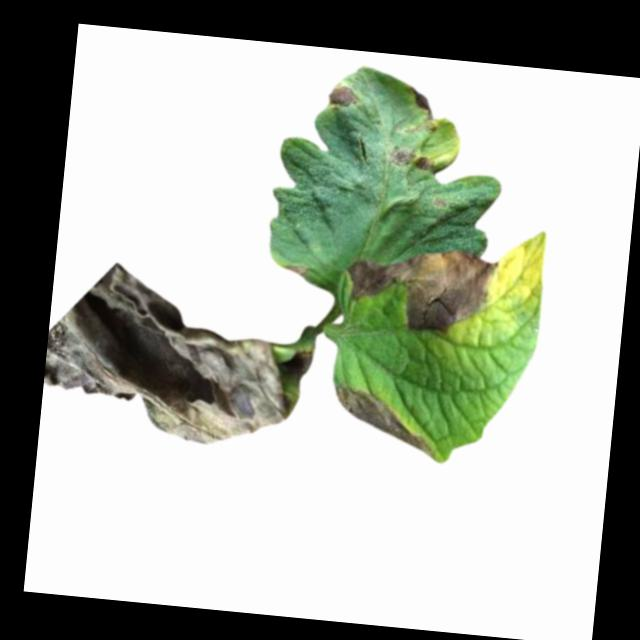Early_blight: (40, 255, 320, 454), (343, 238, 500, 340), (330, 382, 438, 459), (388, 143, 435, 173), (406, 87, 437, 122), (324, 83, 361, 110), (284, 261, 310, 278), (431, 194, 448, 208)
